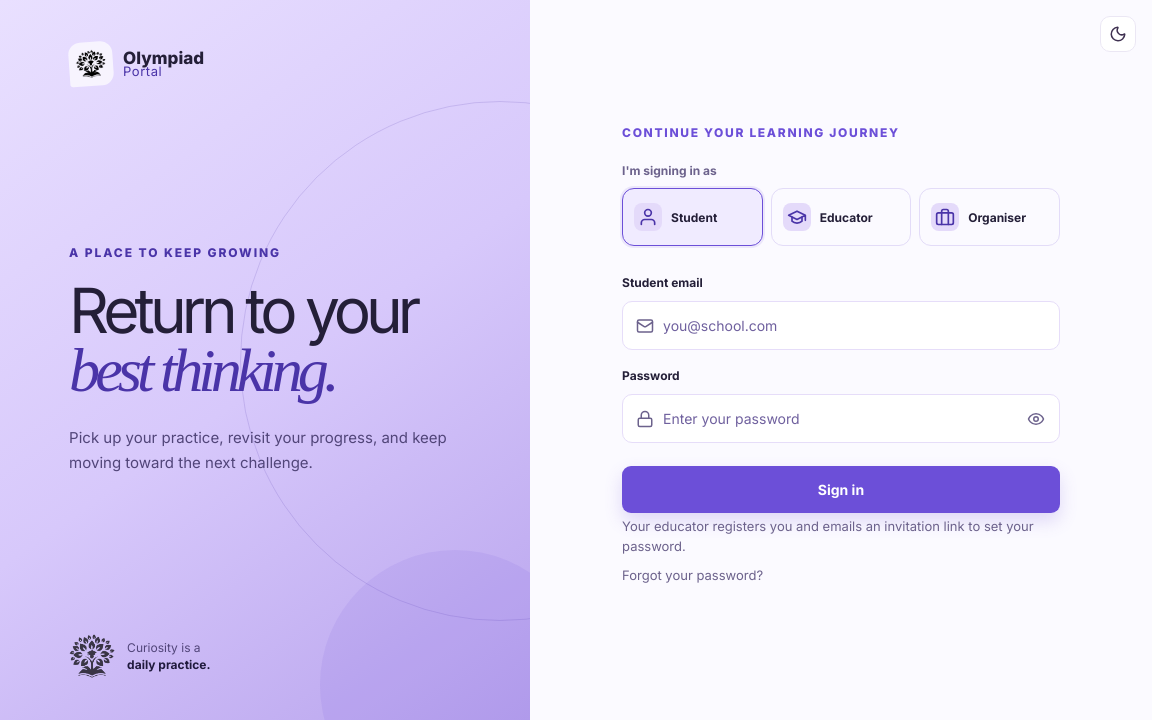
Test: Login page › Student flow › shows the not-activated hint when the account has no password yet
The width and height of the screenshot is (1152, 720).
Type "student@school.com" into the field labelled "Student email". click: (841, 326)
box: [623, 302, 1059, 349]
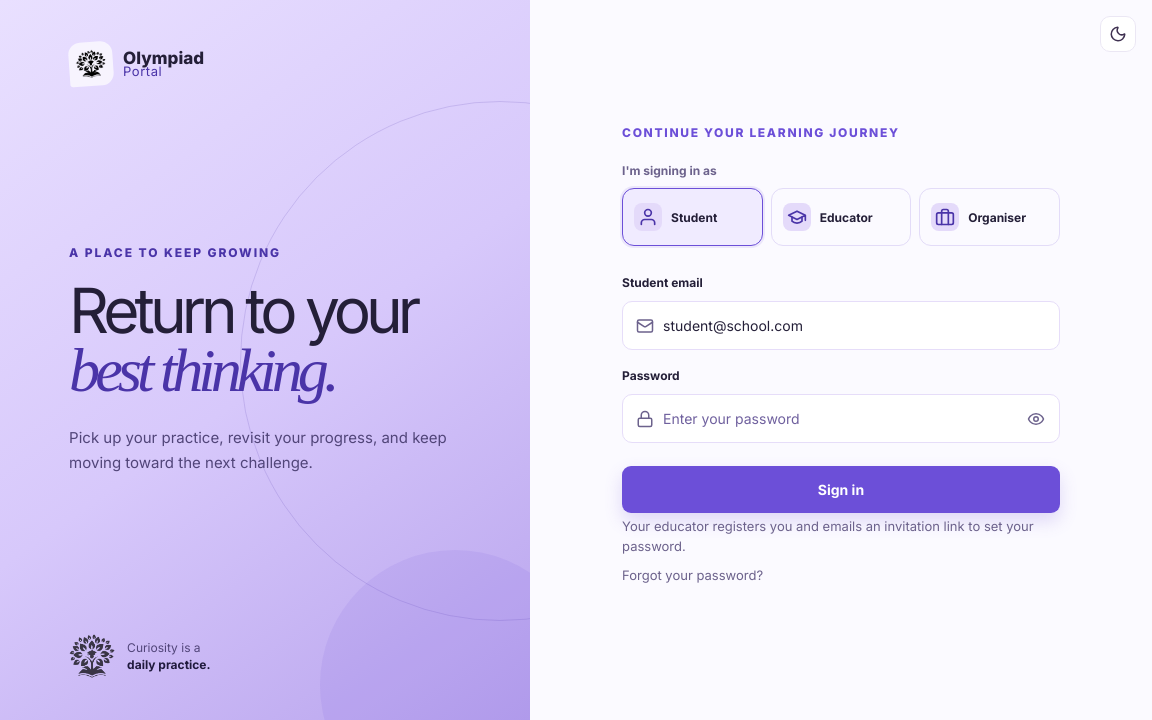
Type "anything" into the password field labelled "Password". click: (821, 419)
box: [623, 395, 1019, 442]
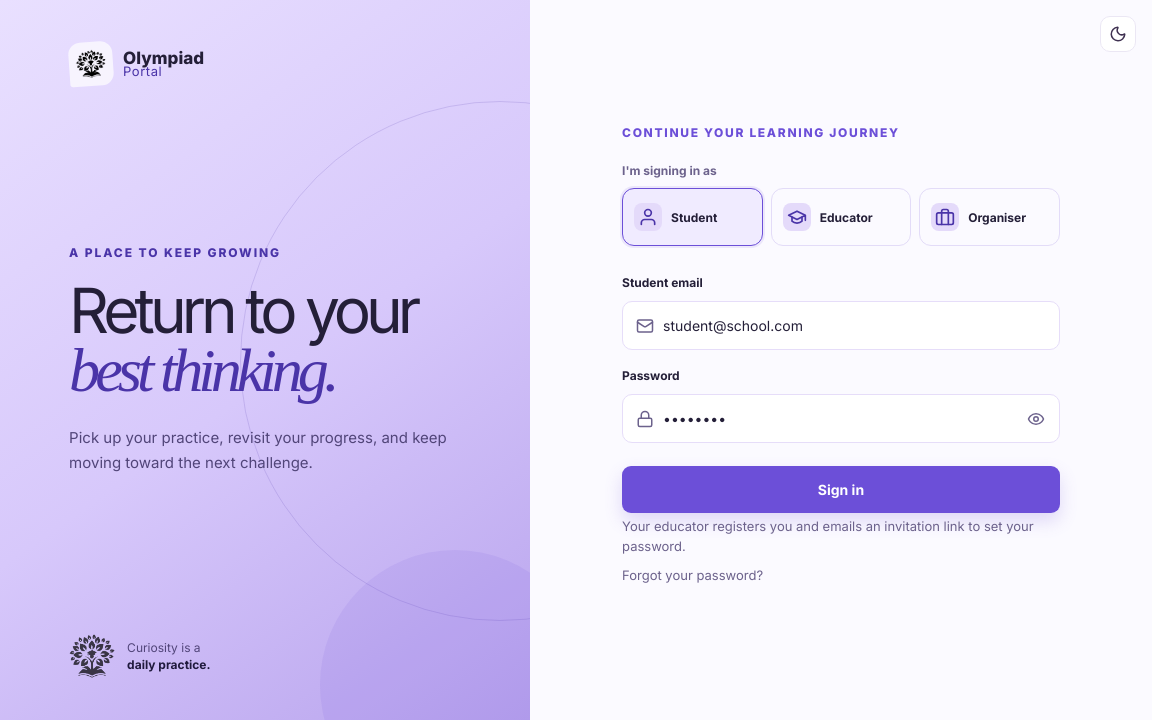
Click the button "Sign in". click: (841, 490)
box: [622, 466, 1060, 513]
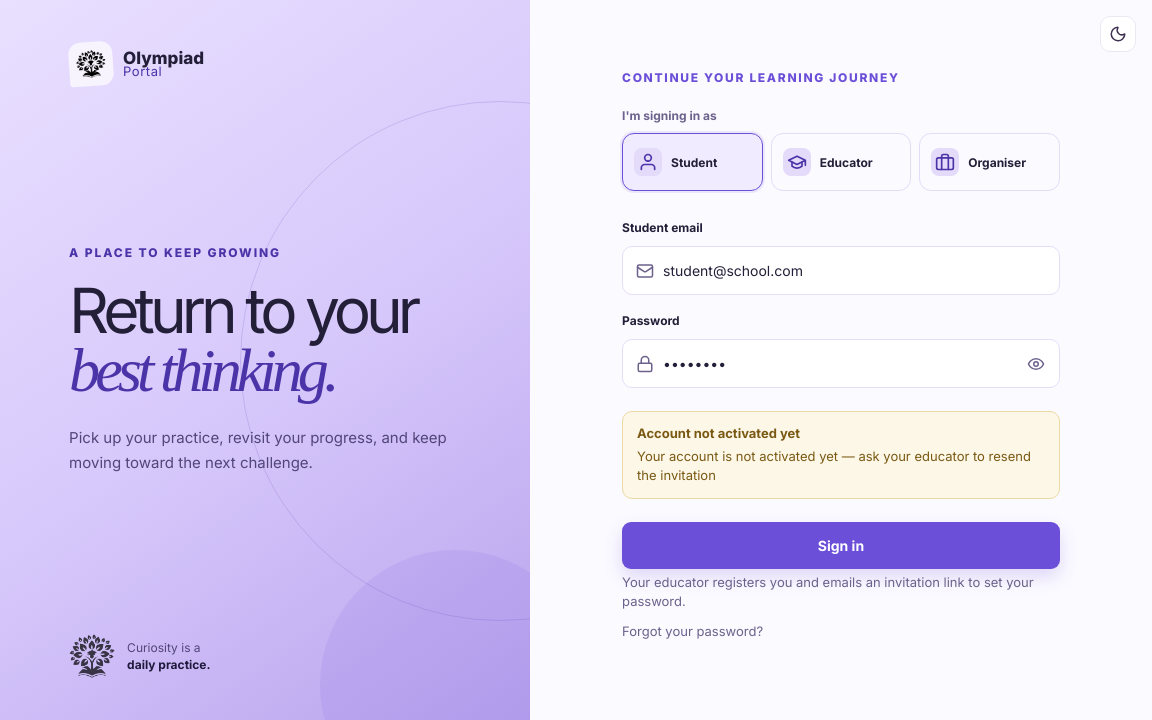
Result: the message shows "ask your educator to resend the invitation" at [637, 448, 1031, 483]
